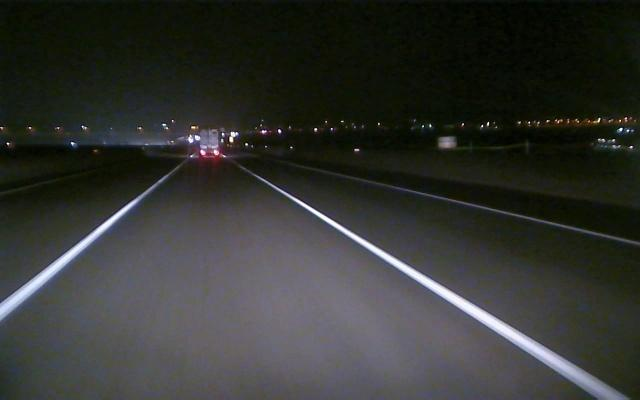lane: (258, 177, 624, 396), (3, 179, 163, 319), (345, 174, 640, 248)
